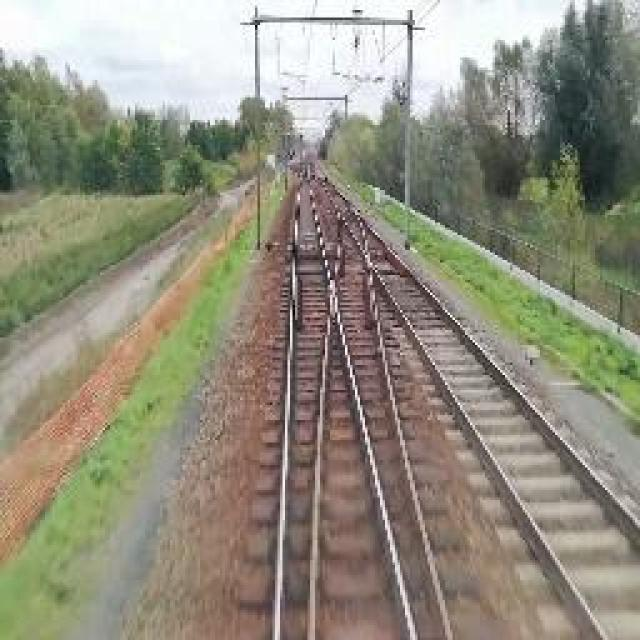rail: (255, 176, 464, 640)
